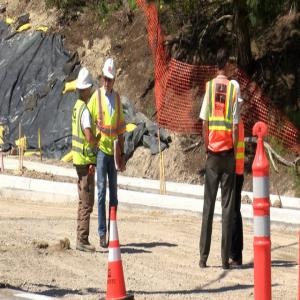none: (217, 46, 231, 79)
white: (76, 67, 93, 103), (103, 59, 117, 93)
